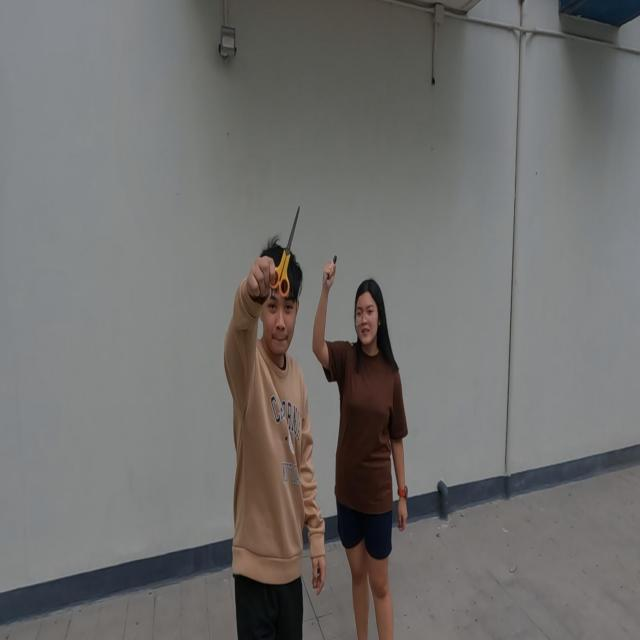scissor: (268, 203, 302, 297)
